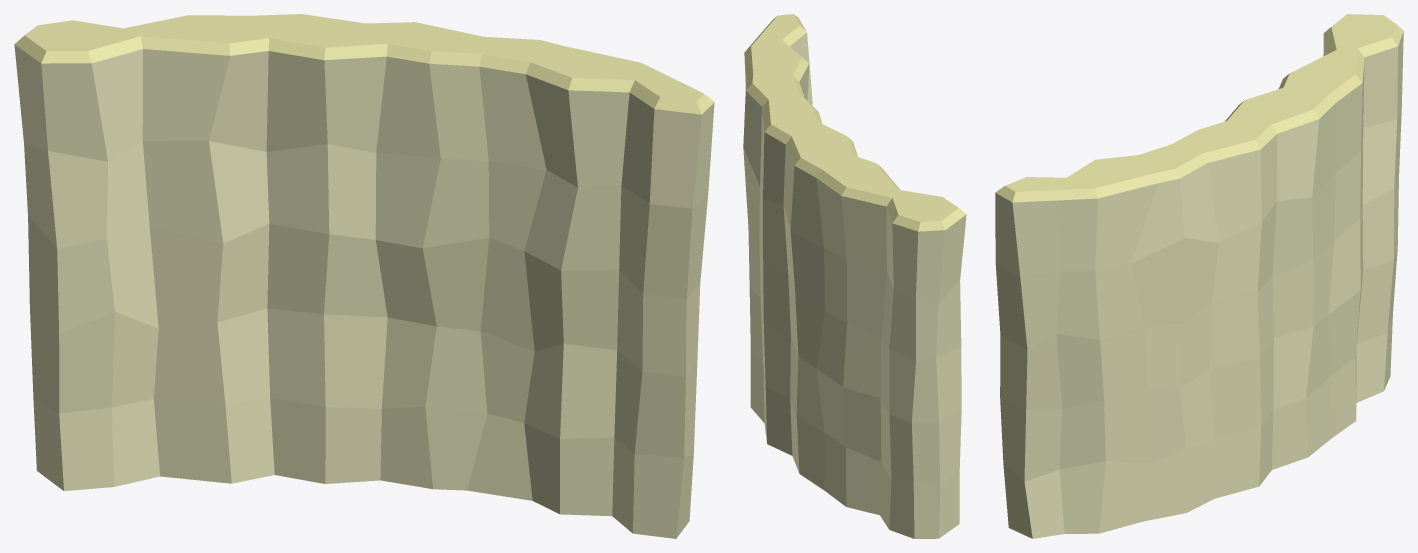
Rendered from RuinsCliff.fbx.
3 renders of one model, left to right at view 1: azimuth 30°, elevation 25°; view 2: azimuth 150°, elevation 25°; view 3: azimuth 270°, elevation 25°, orthographic. The views are drawn at different scales.
Parts seen in each view (by area): view 1: Morro.003; view 2: Morro.003; view 3: Morro.003.
Part boxes in pixels (x1,y1,x2,y2): Morro.003: (14,14,714,538); Morro.003: (743,14,966,538); Morro.003: (995,14,1403,538).
Bounding box in the file's own units: 900 × 802 × 848.
